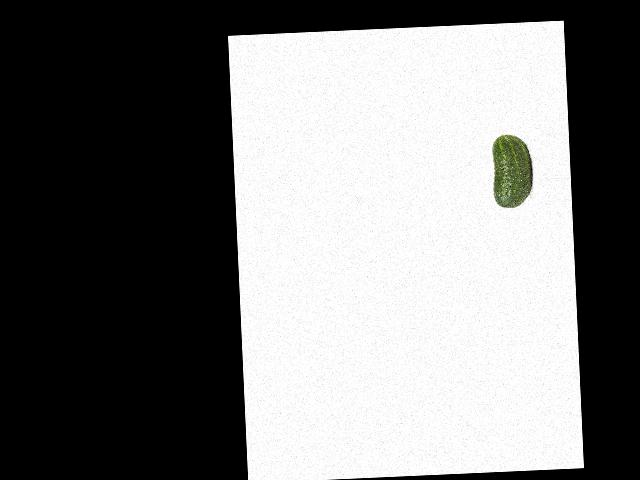cucumber: (492, 133, 533, 209)
